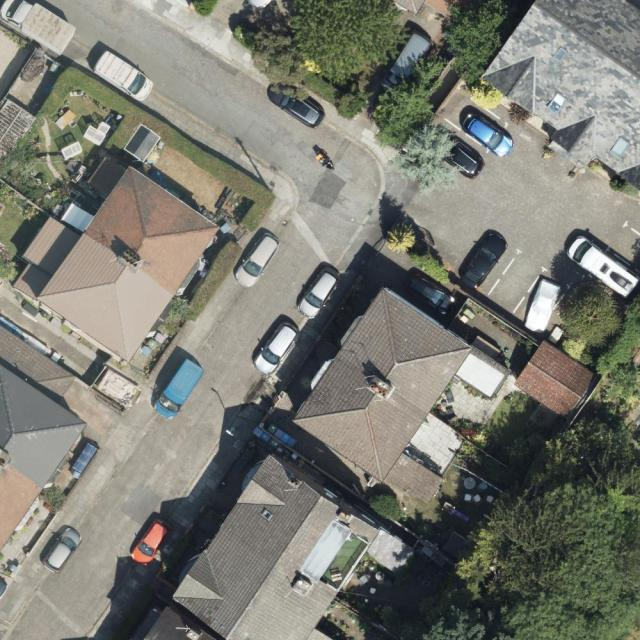roof: (292, 287, 512, 508), (13, 160, 218, 363), (478, 0, 640, 193), (171, 461, 344, 640), (0, 327, 88, 553), (511, 338, 596, 421), (143, 605, 221, 640)
skylight: (605, 130, 633, 163), (545, 91, 569, 115), (549, 42, 571, 65), (257, 504, 278, 525)
